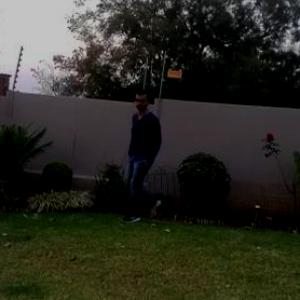follow: (122, 85, 173, 228)
